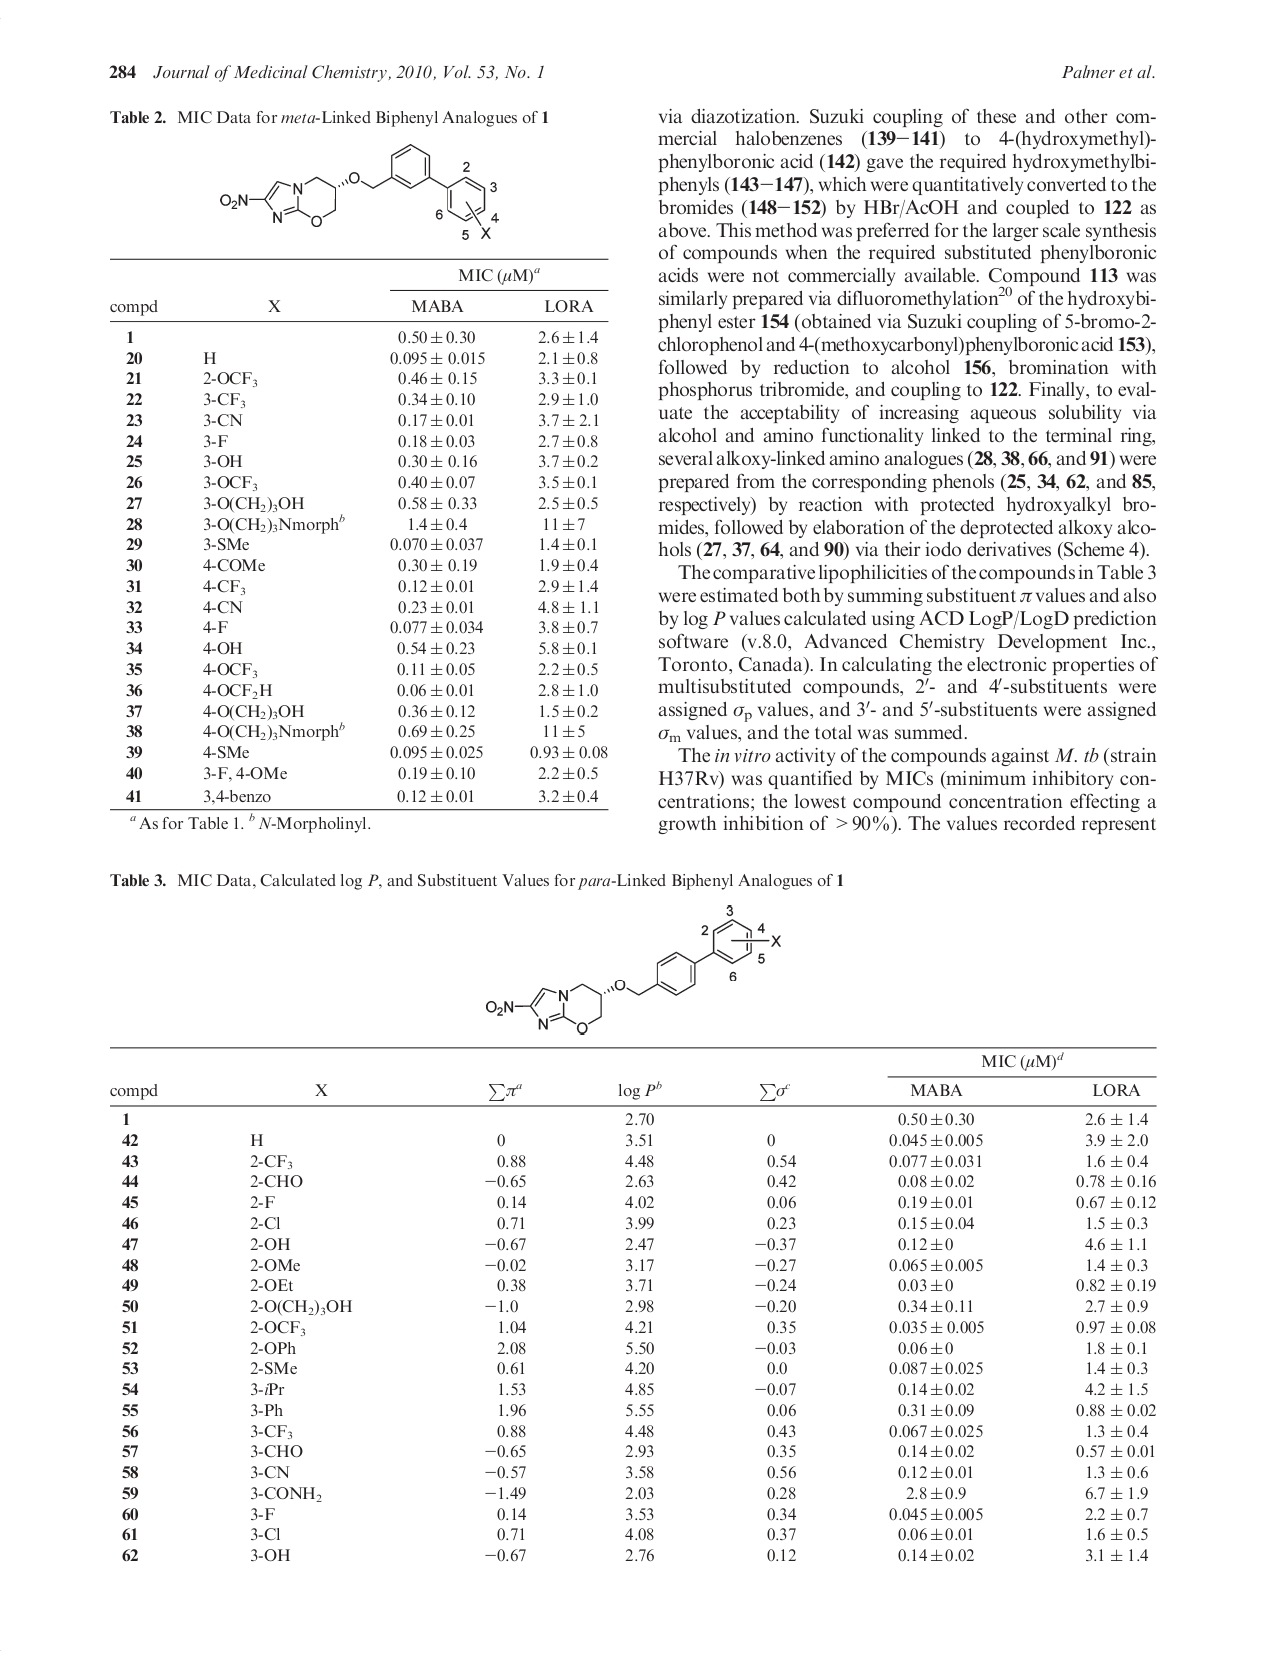exist_molecular: (485, 915, 783, 1039), (218, 140, 493, 242)
